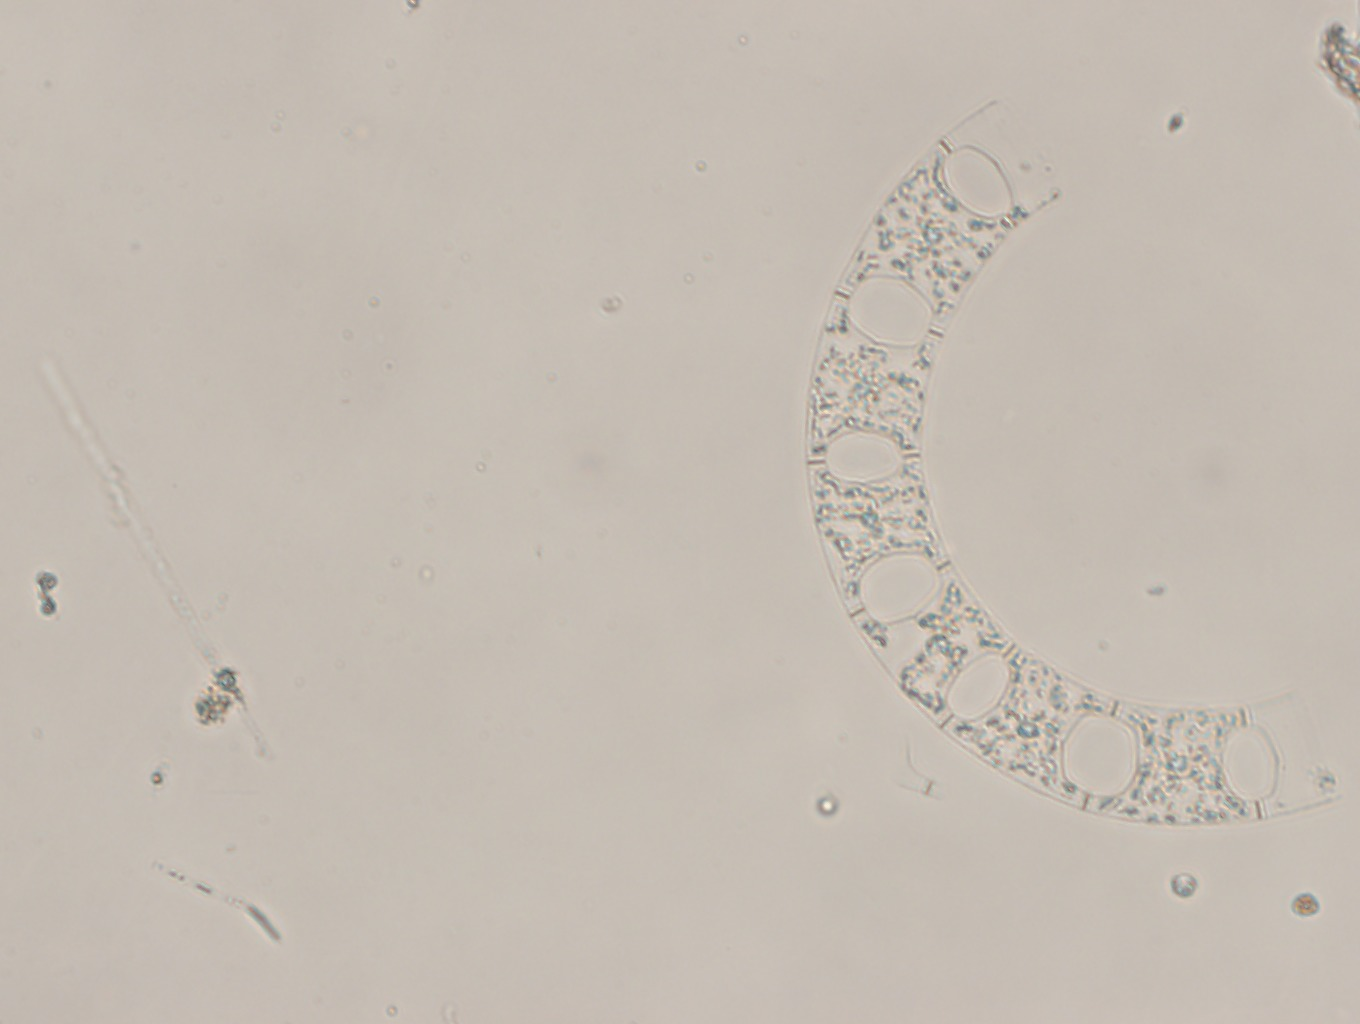eucampia: (793, 81, 1354, 831)
